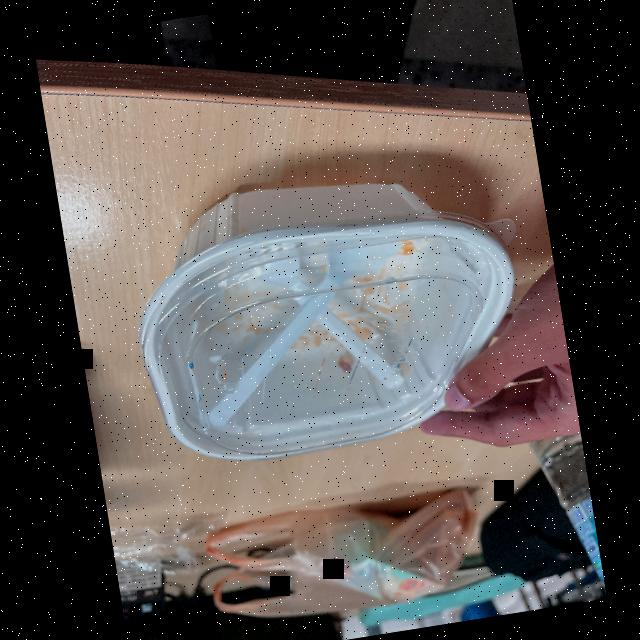plastic_box: (117, 142, 531, 482)
